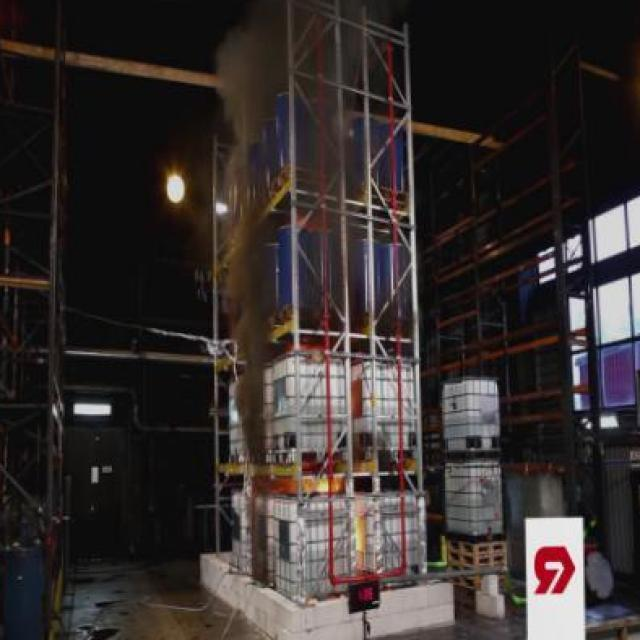fire: (219, 206, 276, 463), (213, 0, 288, 149)
